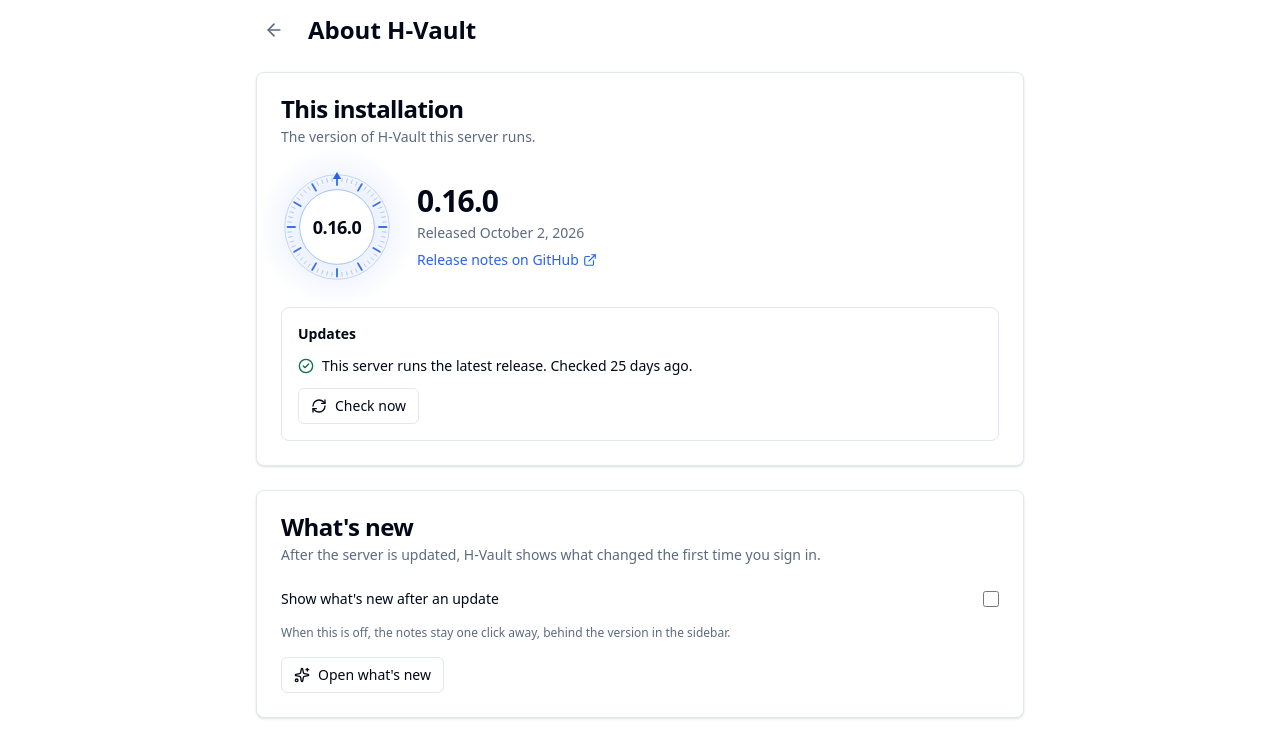
Scenario: AboutPage: the what's new preference › turns it back on with its own confirmation
Step 1. Click the checkbox labelled "Show what's new after an update" → (991, 599), box top-left (983, 591), bottom-right (999, 607)
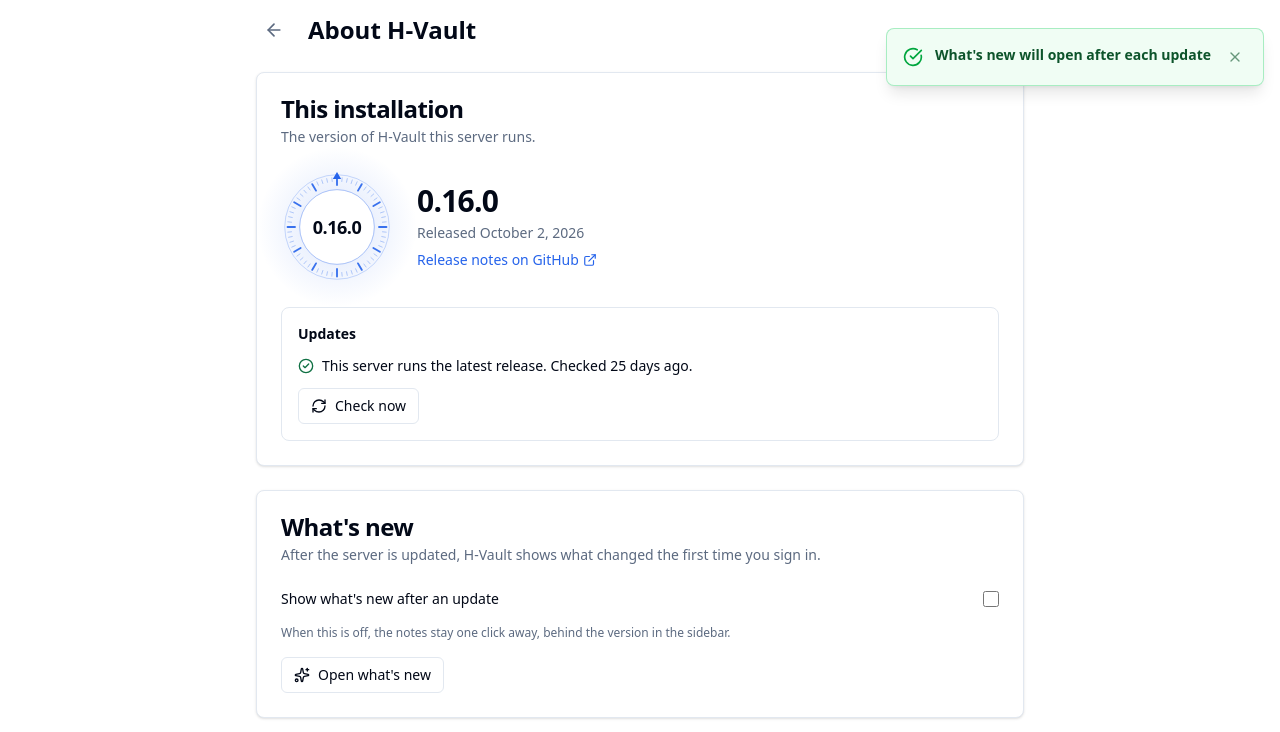
Expected: the text "What's new will open after each update" is shown, top-left (935, 45), bottom-right (1211, 65)
